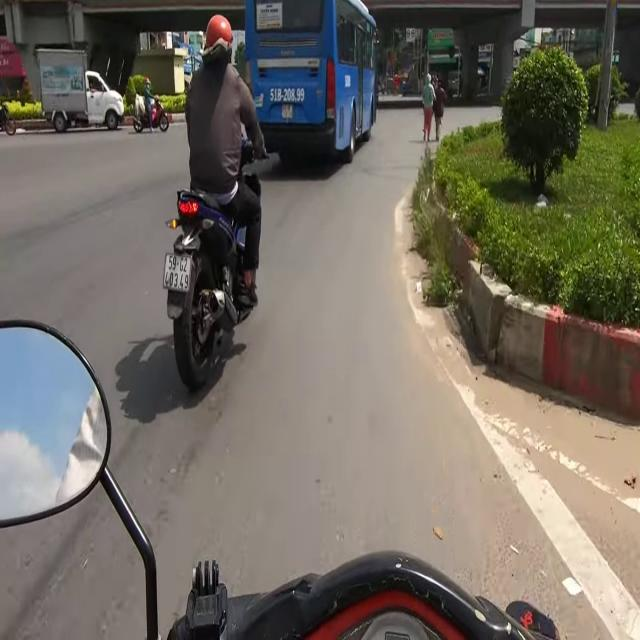bien_trang: (164, 252, 192, 294)
